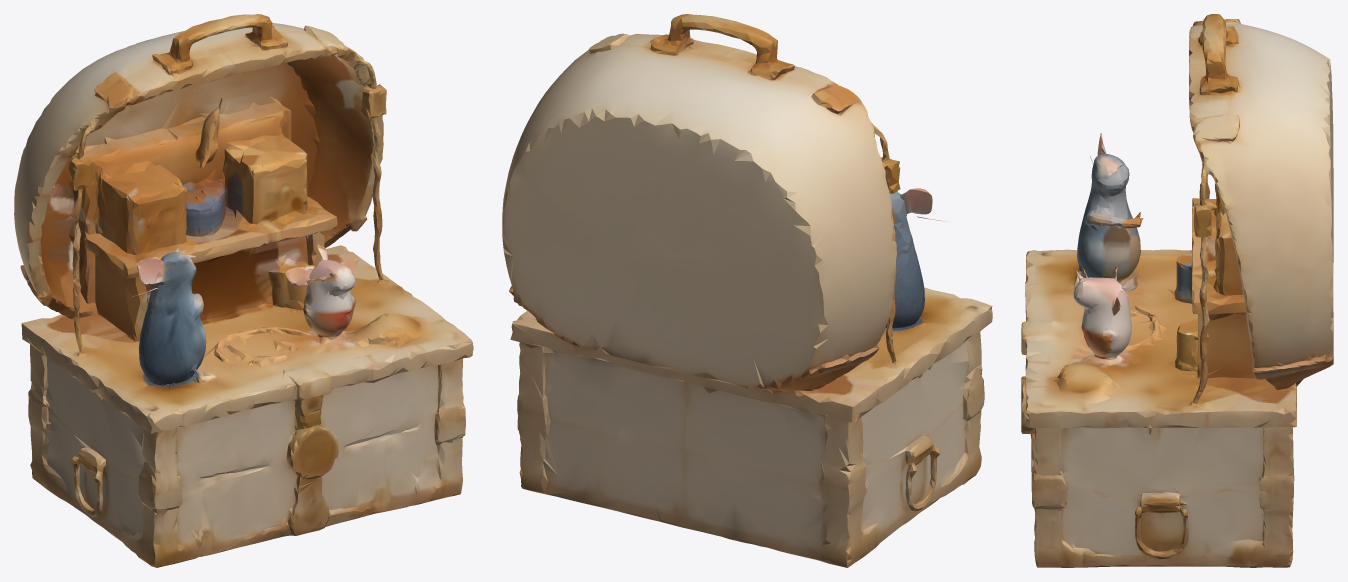
The picture shows the model from 3 angles, left to right: view 1: azimuth 30°, elevation 25°; view 2: azimuth 150°, elevation 25°; view 3: azimuth 270°, elevation 25°; orthographic projection. The views are drawn at different scales.
Visible parts, largest first — view 1: 044; view 2: 044; view 3: 044.
Boxes of the visible parts, <box> form: 044: <box>14,14,473,567</box>; 044: <box>502,14,992,567</box>; 044: <box>1021,14,1333,567</box>.
Bounding box in the file's own units: 1.57 × 1.9 × 1.16.
1 material, 1 textured.
